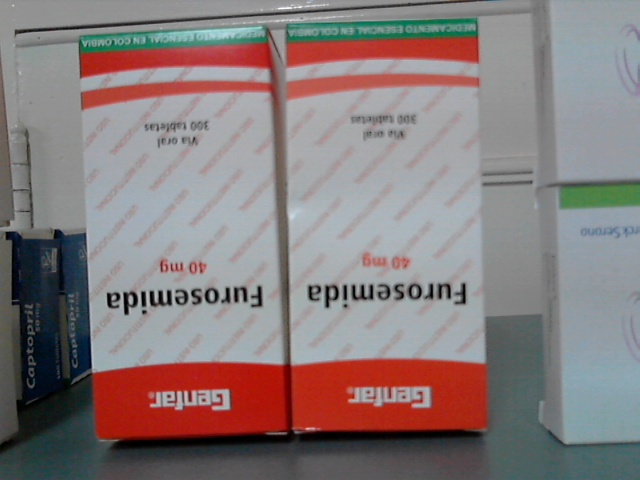Genfar: (80, 31, 284, 438), (284, 24, 487, 430)
